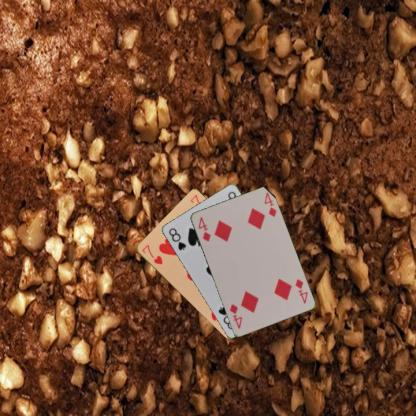4d: (292, 276, 309, 305), (196, 214, 212, 243)
7h: (139, 241, 164, 266)
8s: (166, 226, 187, 252)
